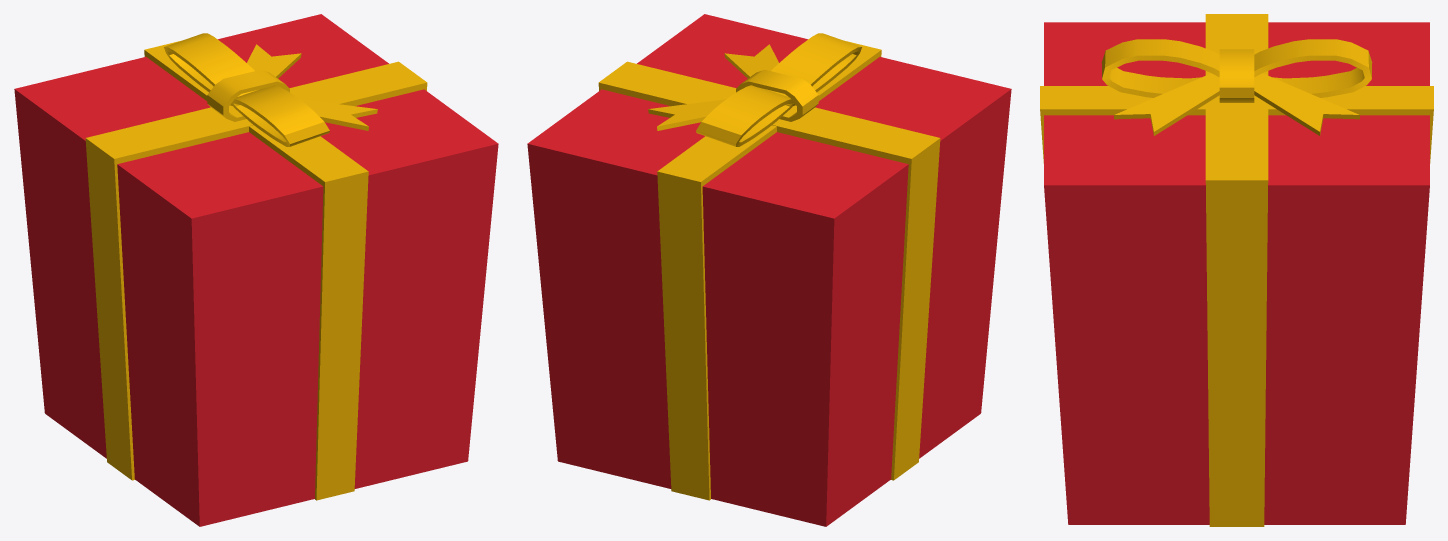
File: ribonBox.glb
The picture shows the model from 3 angles, left to right: view 1: azimuth 30°, elevation 25°; view 2: azimuth 150°, elevation 25°; view 3: azimuth 270°, elevation 25°; orthographic projection. The views are drawn at different scales.
Parts seen in each view (by area): view 1: Main, Sub; view 2: Main, Sub; view 3: Main, Sub.
Boxes of the visible parts, <box> form: Main: <box>14,14,498,526</box>; Sub: <box>85,33,427,500</box>; Main: <box>527,14,1011,526</box>; Sub: <box>598,33,940,500</box>; Main: <box>1044,22,1429,524</box>; Sub: <box>1040,14,1433,526</box>.
Size of the model in its own units: 0.7849 by 0.8797 by 0.7849.
